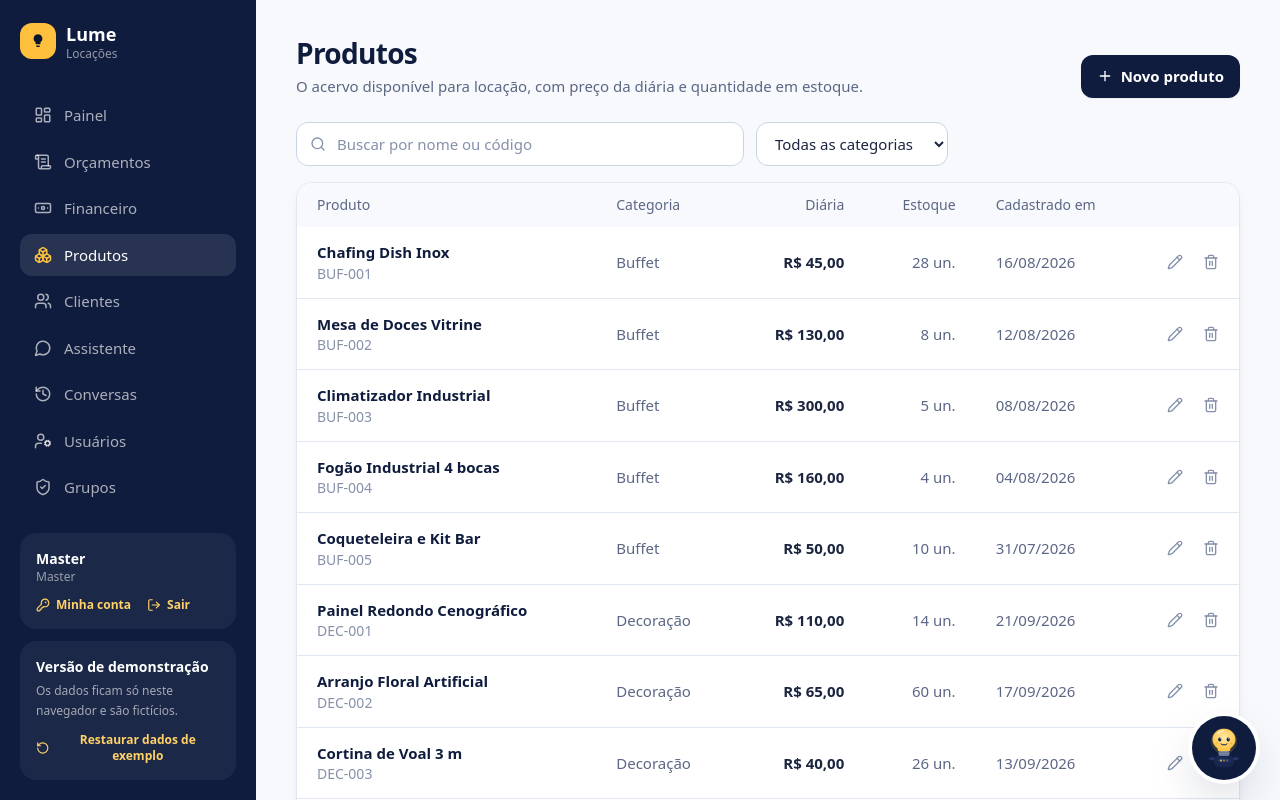
Produtos › lista, filtra por categoria e cadastra com validação de código único
This screenshot has width=1280, height=800.
Check: the heading "Produtos" is shown, box [296,34,417,72]
Select "Iluminação" in the dropdown named "Filtrar por categoria" at [852, 144], box [756,122,948,166]
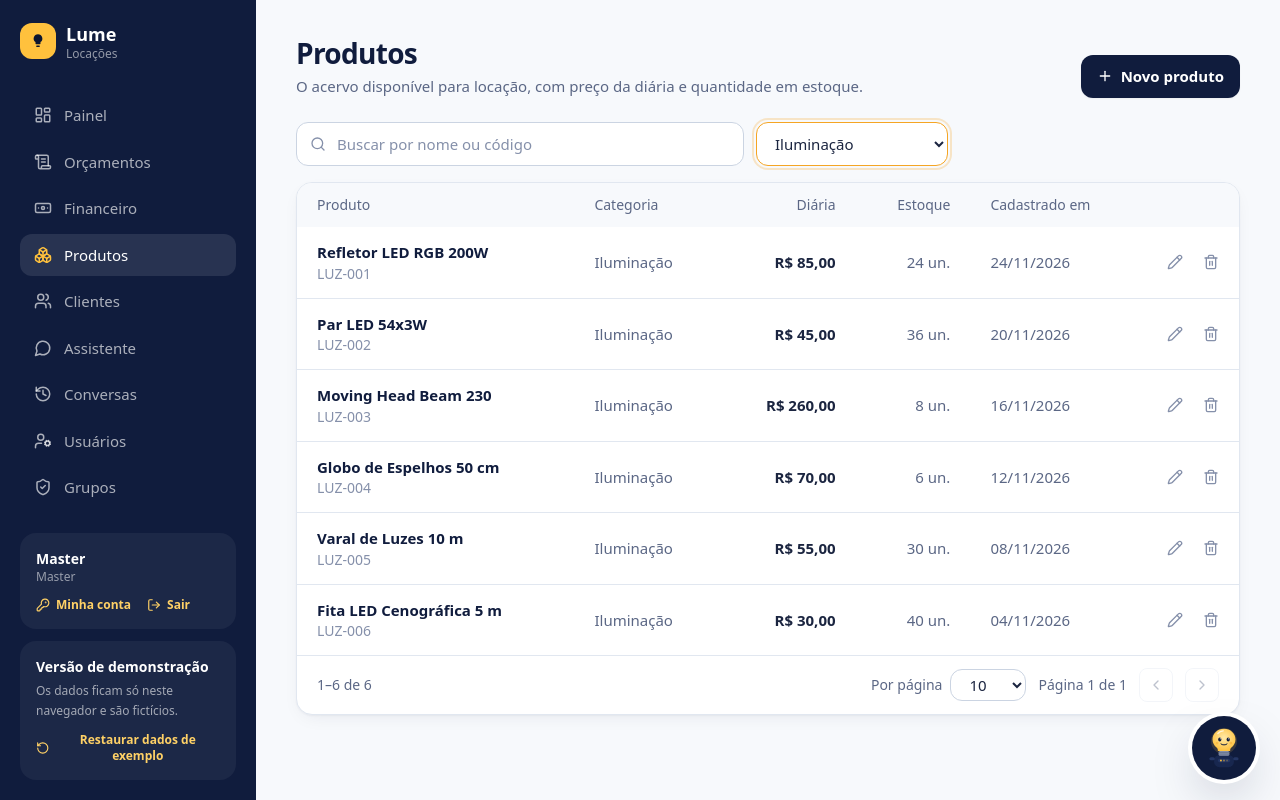
Check: the text "Refletor LED RGB 200W" is shown, box [317,242,488,262]
Click the button "Novo produto" at [1160, 76], box [1081,55,1240,98]
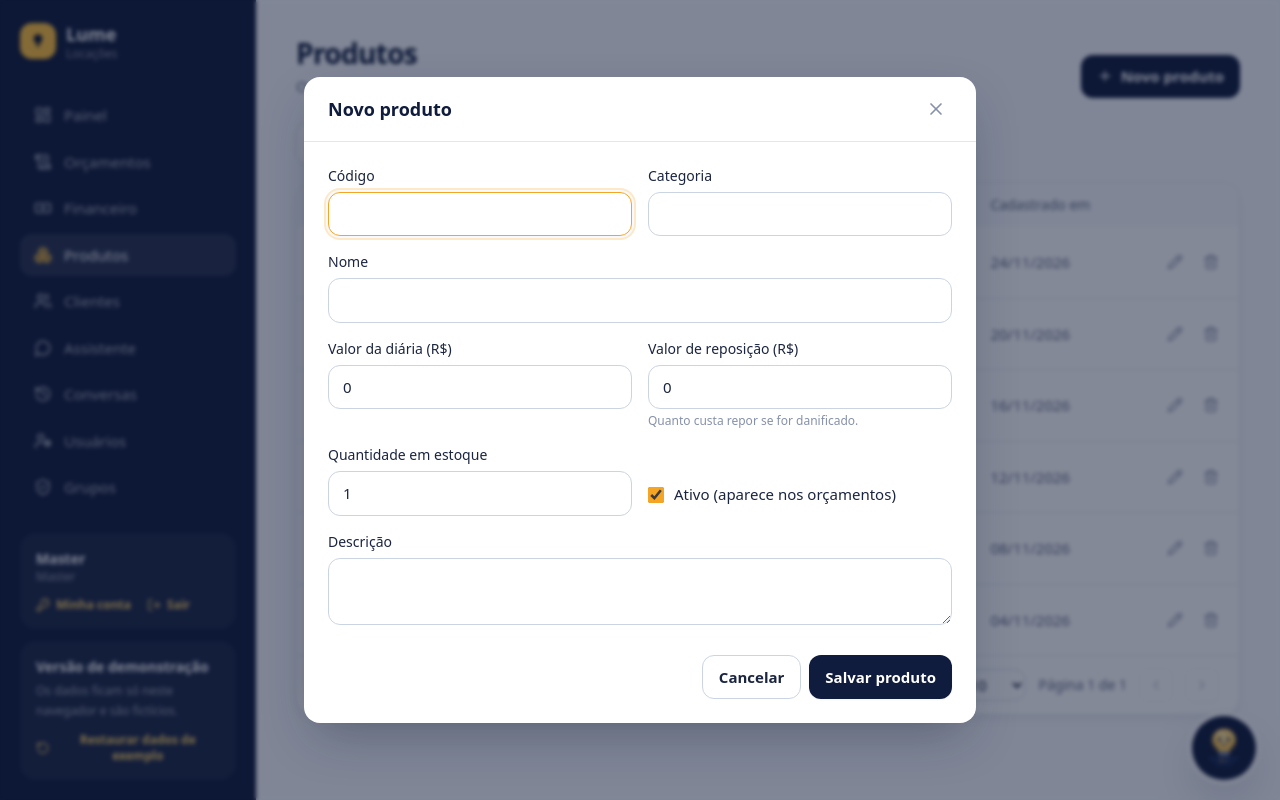
Type "LUZ-001" into the field labelled "Código" at [480, 214], box [328,192,632,236]
Type "Iluminação" into the field labelled "Categoria" at [800, 214], box [648,192,952,236]
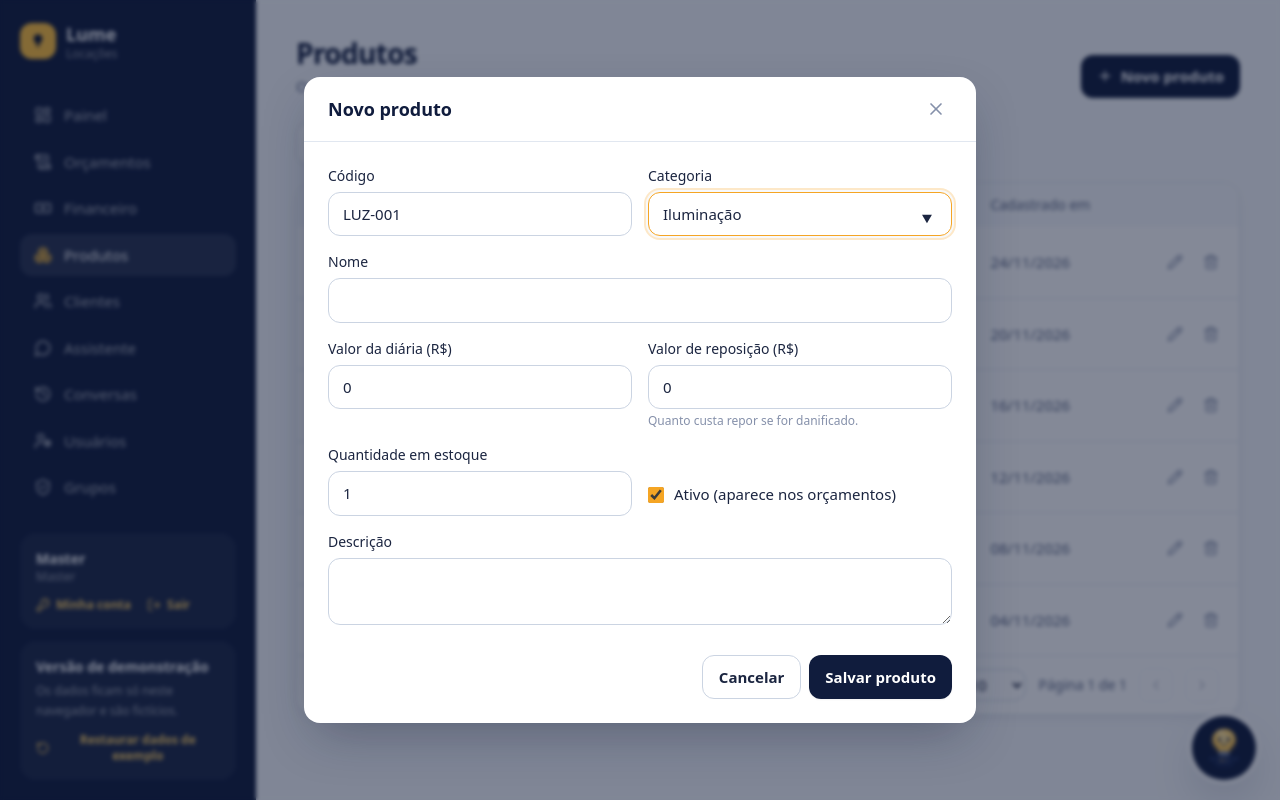
Type "Outro refletor" into the field labelled "Nome" at [640, 301], box [328,278,952,323]
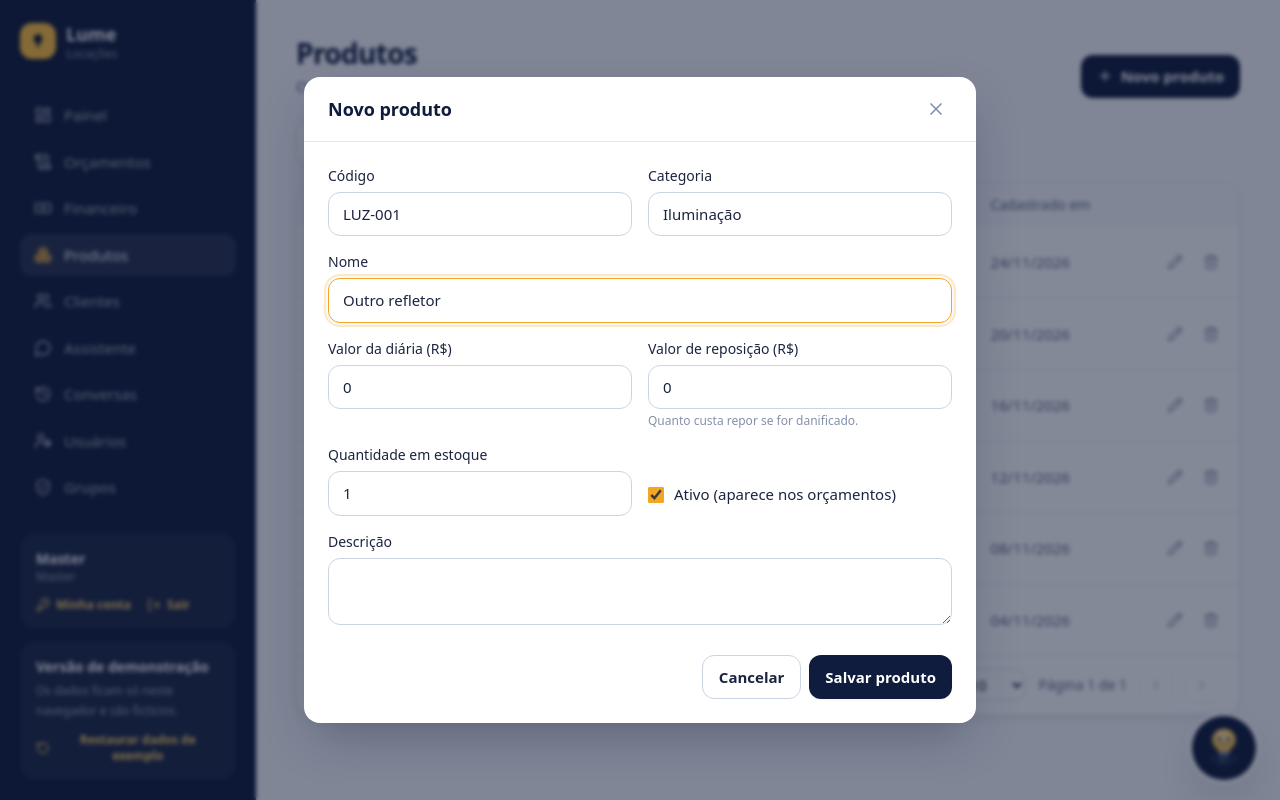
Click the button "Salvar produto" at [881, 677], box [809,655,952,699]
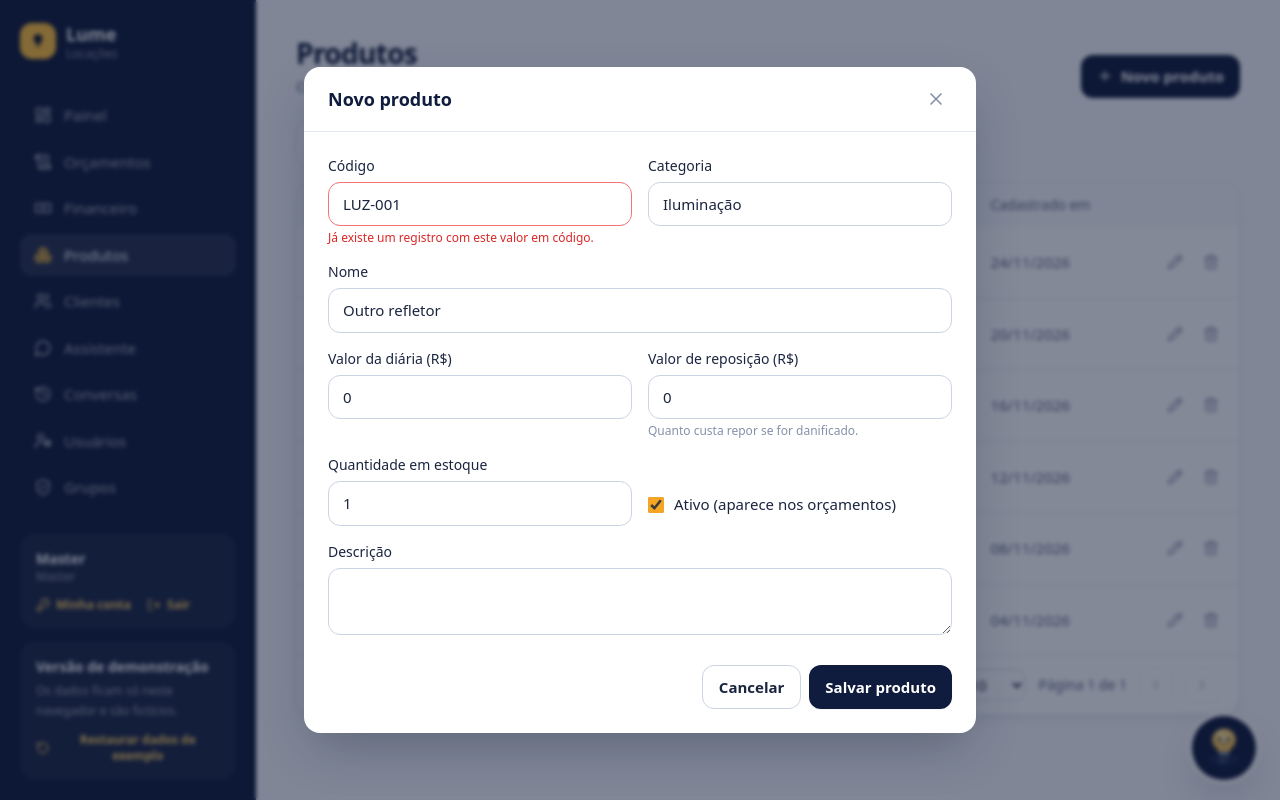
Check: the text "Já existe um registro com este valor em código." is shown, box [328,230,632,246]
Replace the text in the field labelled "Código" with "LUZ-777" at [480, 204], box [328,182,632,226]
Click the button "Salvar produto" at [881, 687], box [809,665,952,709]
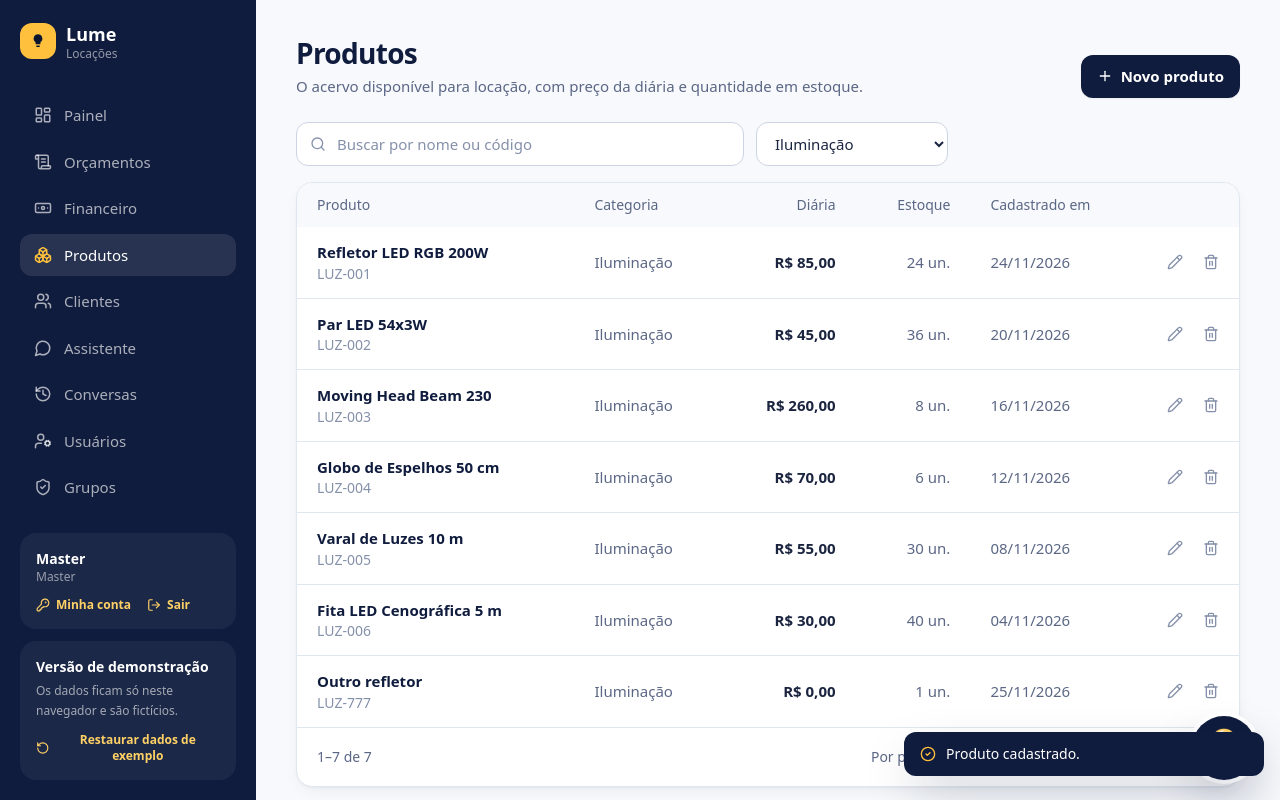
Check: the text "Produto cadastrado." is shown, box [904,732,1264,776]
